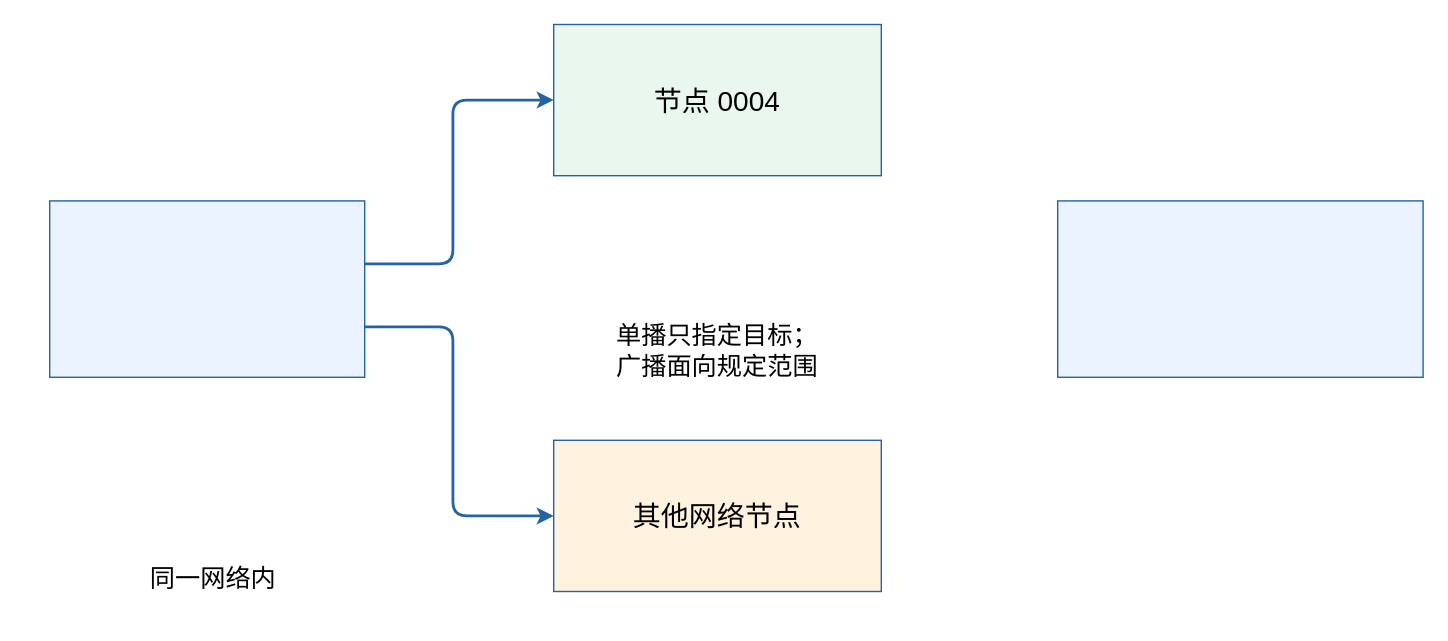
Some shapes in this 1448 by 641 pixel diagram are drawn without their labels. Here are the shapes that lost their labels. From the top down, the box of each, then its label:
(48, 200, 365, 377): 发送节点 短地址 0005
(1056, 200, 1423, 377): 单播：指定地址 广播：FFFF 课件模块示例
